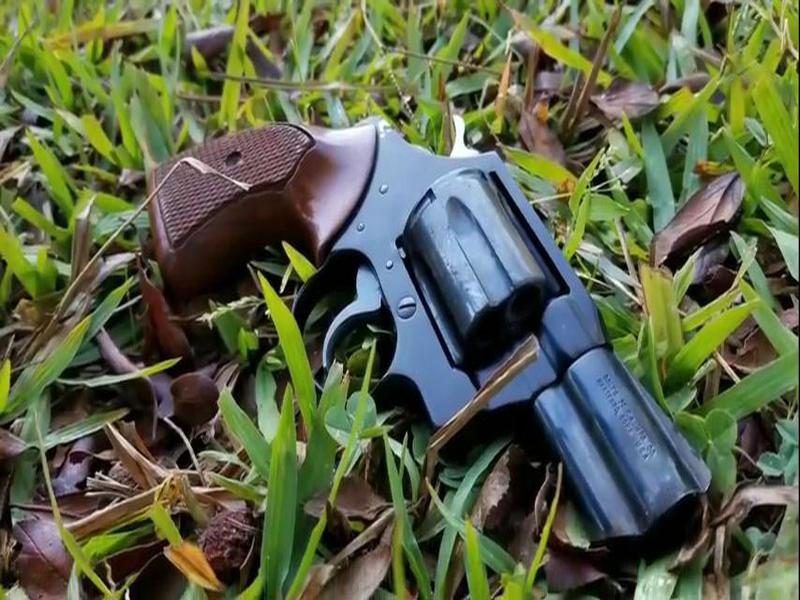Revolver: (114, 94, 726, 577)
